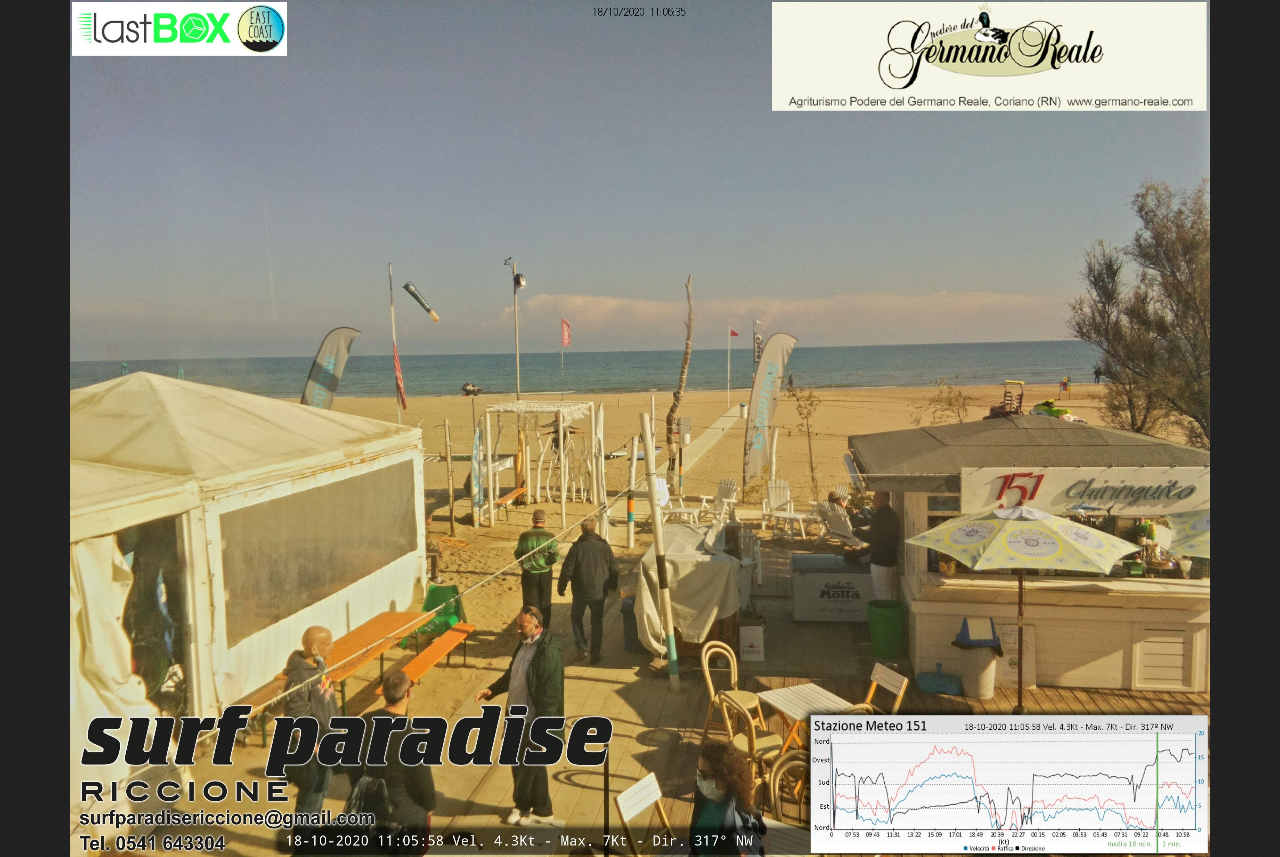yes: (728, 326, 741, 336)
